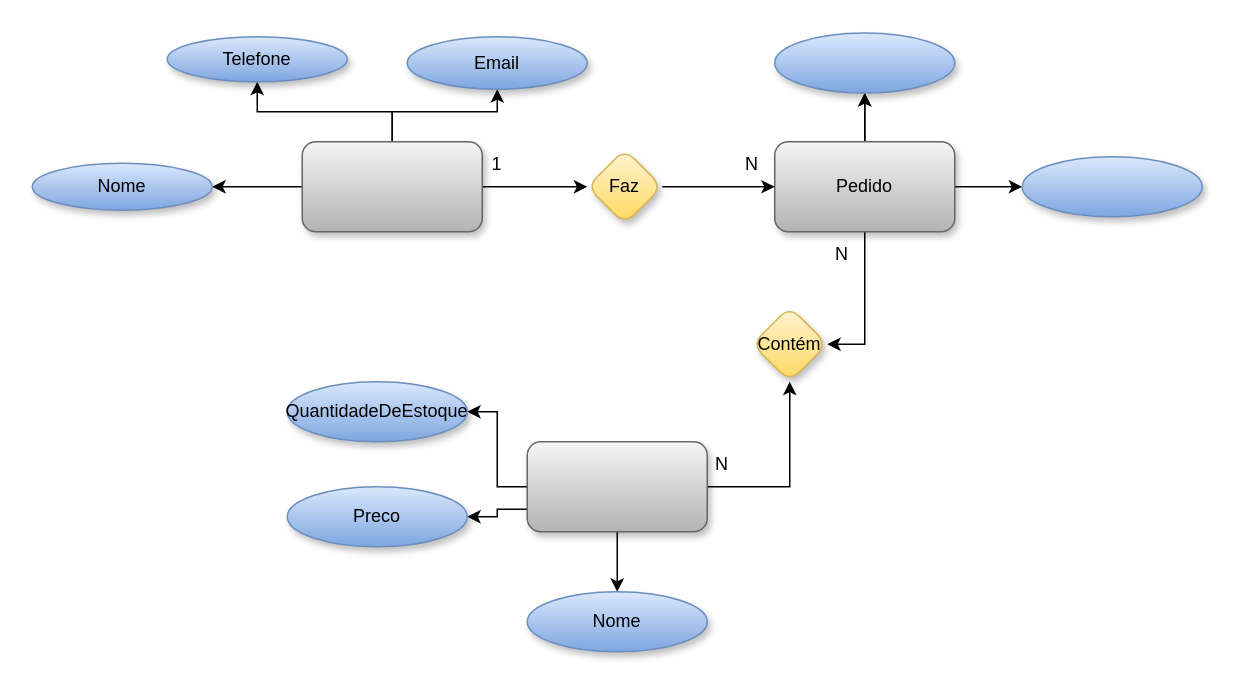
The diagram is 1238 pixels wide and 689 high, and some of its shapes have lost their labels. Here are the shapes that lost their labels. From the top down, the centre of each, then its label:
At (865,65): "ValorTotal".
At (393,188): "Cliente".
At (1113,188): "Data".
At (618,488): "Produto".
